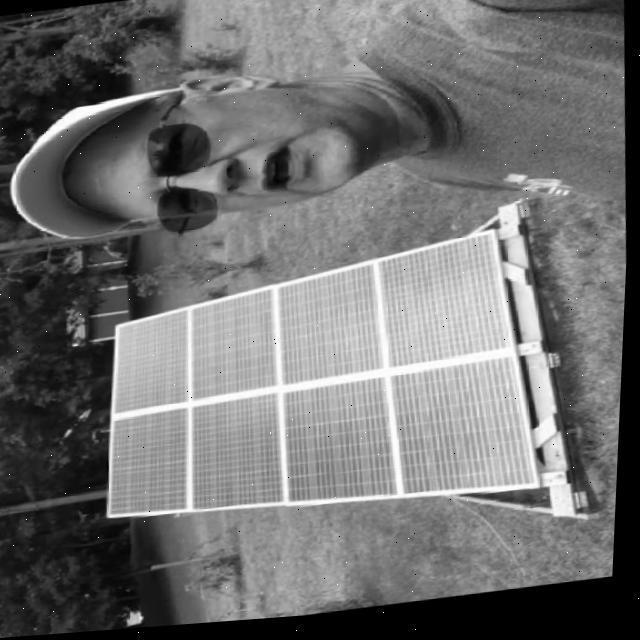Normal Solar Panel: (98, 235, 550, 544)
